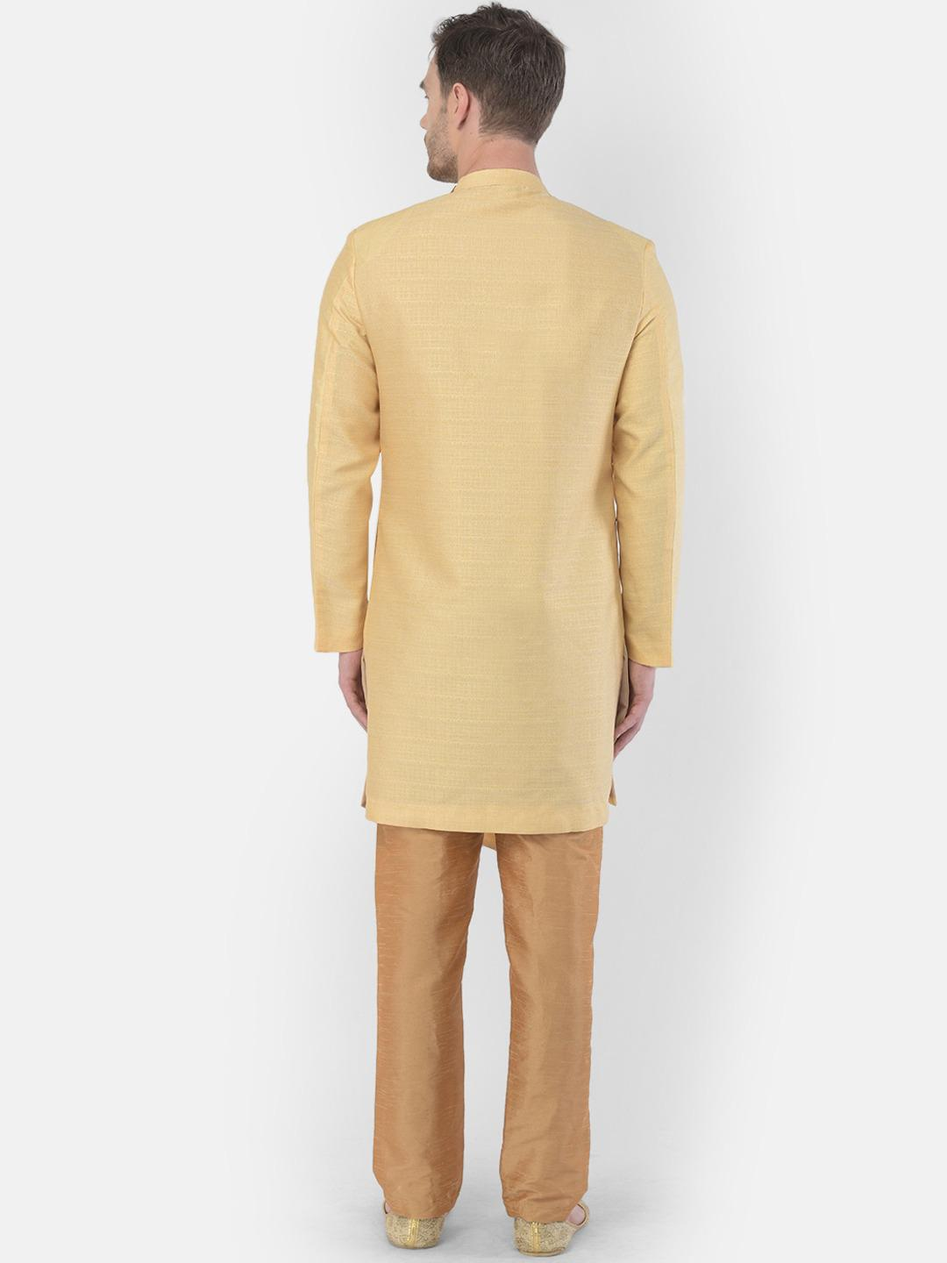Plain Sherwani: (306, 170, 682, 841)
